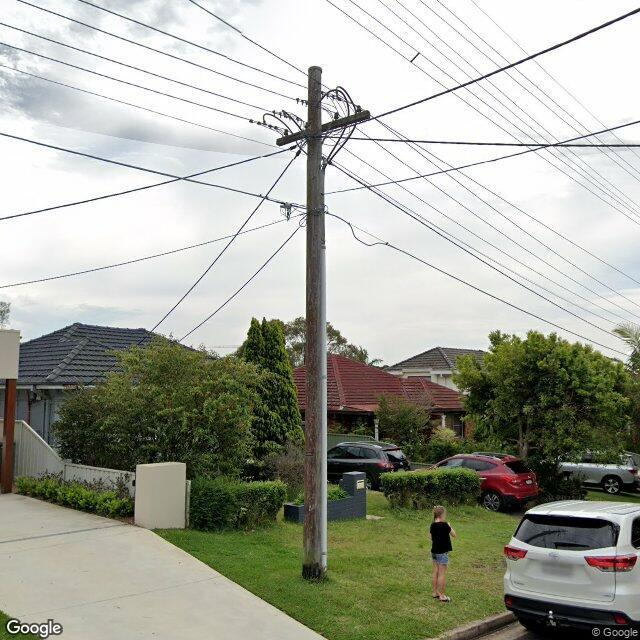crossarm: (277, 110, 369, 147)
timber-pole: (302, 64, 328, 581)
